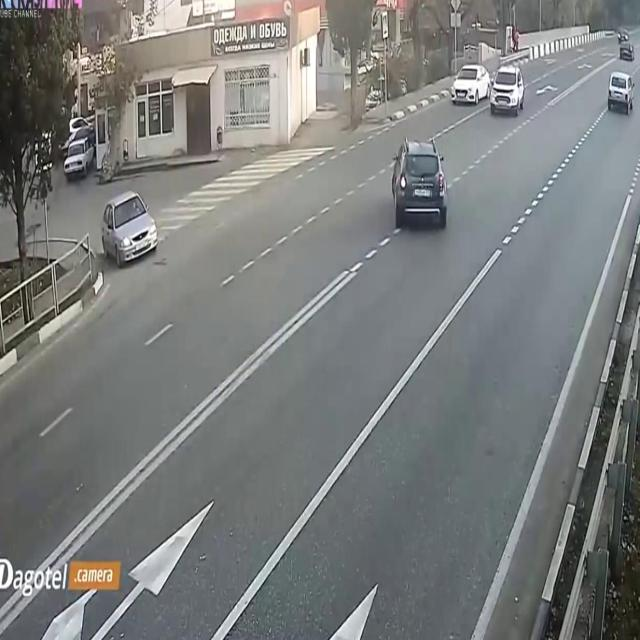non_accident: (446, 59, 530, 121)
